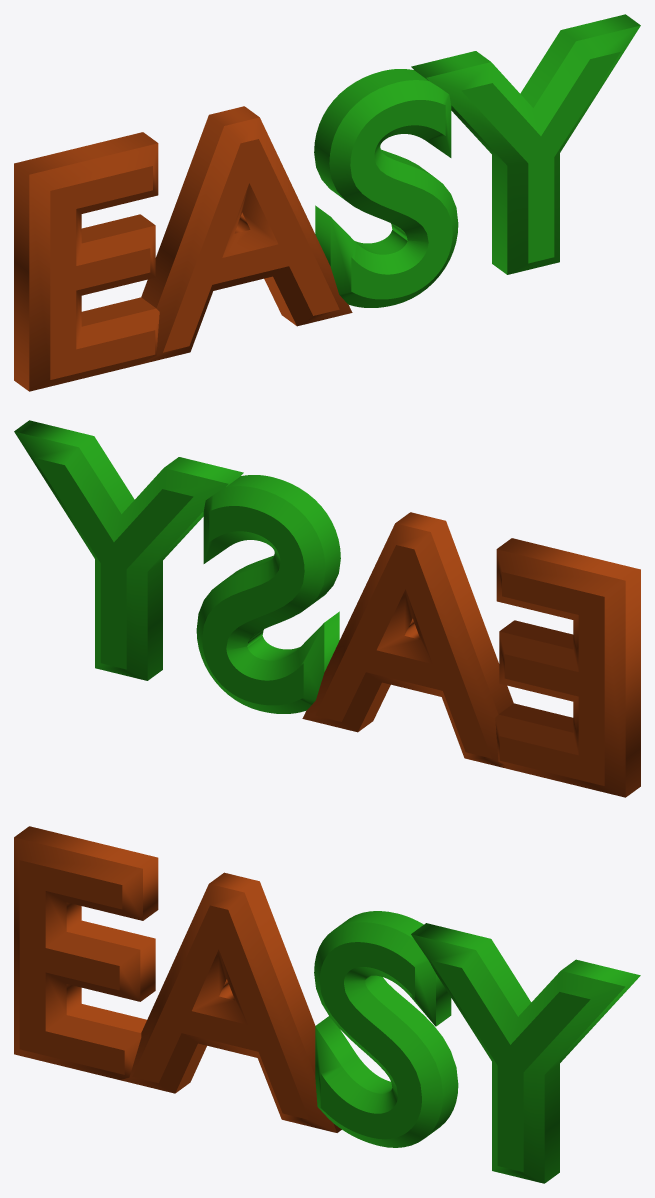
The picture shows the model from 3 angles, top to bottom: view 1: azimuth 30°, elevation 25°; view 2: azimuth 150°, elevation 25°; view 3: azimuth 330°, elevation 25°; orthographic projection.
Parts seen in each view (by area): view 1: Text; view 2: Text; view 3: Text.
Part boxes in pixels (bbox=[...]): Text: bbox=[14, 14, 640, 391]; Text: bbox=[14, 420, 640, 797]; Text: bbox=[14, 826, 640, 1183].
Size of the model in its own units: 0.4614 by 0.16 by 0.04.
